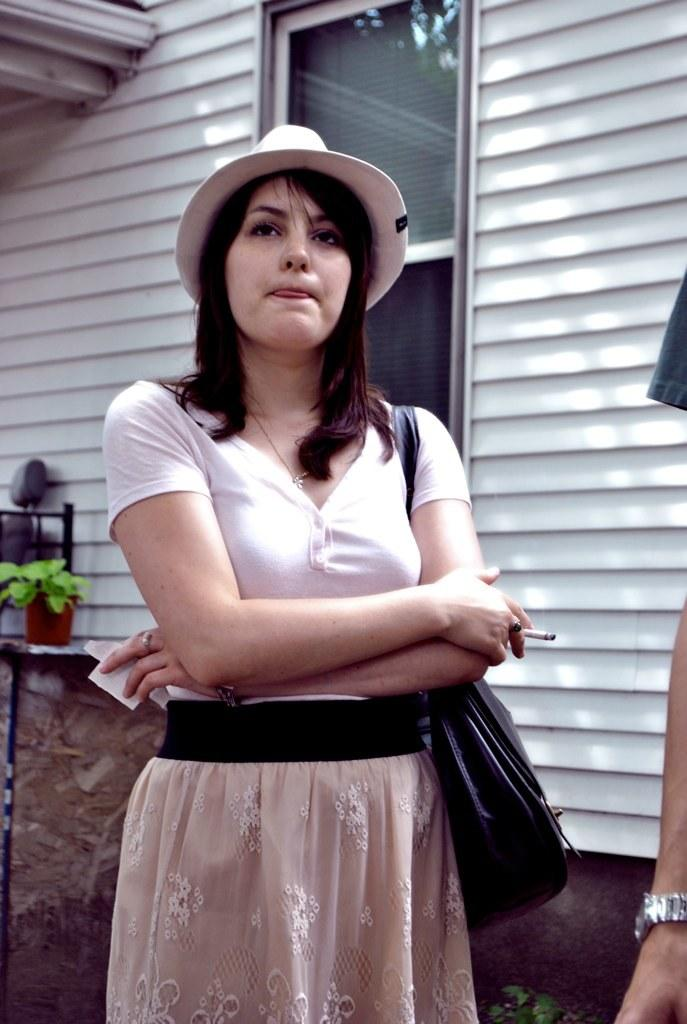Hat: (174, 122, 406, 312)
